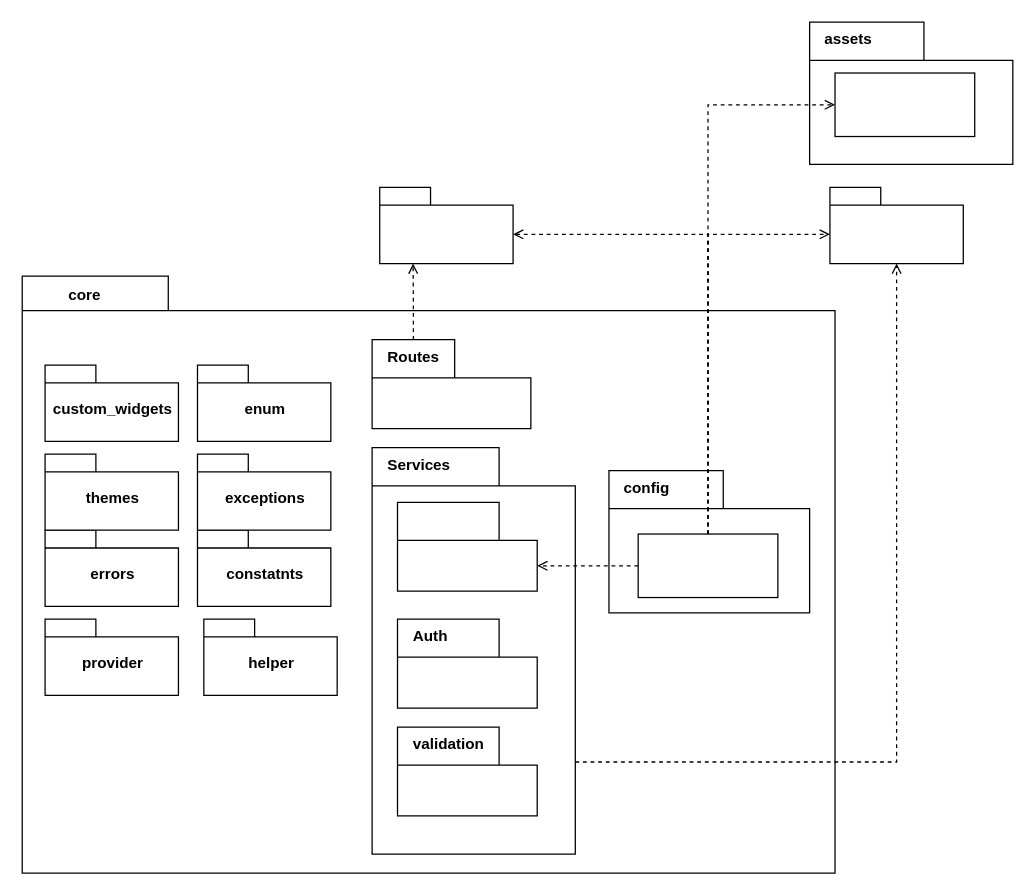
This 1035x895 diagram has some shape labels left out. The centre of each missing label's shape, as x and y in pixels:
<<Framework>> Flutter: the point at 445,225
<<Framework>> Pakages/Plugins: the point at 896,225
AppConfig: the point at 707,565
Database: the point at 466,546
«file» {type:json} config.json: the point at 904,104
